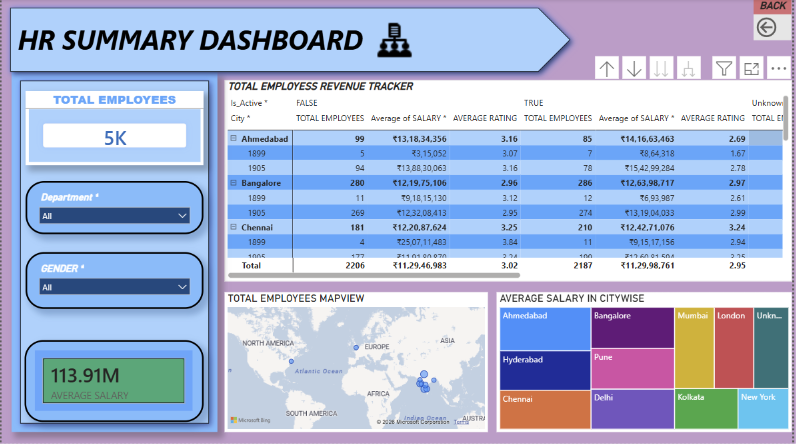

This screenshot's page, from the dashboard's own definition file:
{"tool":"powerbi","page":{"name":"Page 2","canvas":[1280,720],"ordinal":1},"visuals":[{"type":"pivotTable","title":"TOTAL EMPLOYESS REVENUE TRACKER","fields":{"Values":["MEASURE TABLE.TOTAL EMPLOYEES","Avg(WORKSHEET.SALARY *)","MEASURE TABLE.AVERAGE RATING"],"Rows":["WORKSHEET.City *","WORKSHEET.Joining_Date *.1.Variation.Date Hierarchy.Year"],"Columns":["WORKSHEET.Is_Active *"]},"box":[361.1,131.2,918.1,325.5],"z":0},{"type":"shape","box":[16.2,118.2,333.6,582.9],"z":1000},{"type":"shape","box":[0,0,935,131.7],"z":2000},{"type":"textbox","box":[21.4,30,655.7,71.4],"z":3000},{"type":"cardVisual","title":"TOTAL EMPLOYEES","fields":{"Data":["MEASURE TABLE.TOTAL EMPLOYEES"]},"box":[38.9,149,288.2,119.8],"z":4000},{"type":"slicer","fields":{"Values":["WORKSHEET.Department *"]},"box":[38.9,294.7,288.2,85.8],"z":5000},{"type":"slicer","fields":{"Values":["WORKSHEET.GENDER *"]},"box":[38.9,409.7,288.2,92.3],"z":6000},{"type":"cardVisual","fields":{"Data":["MEASURE TABLE.AVERAGE SALARY"]},"box":[37.2,552.2,289.8,132.8],"z":7000},{"type":"map","title":"TOTAL EMPLOYEES MAPVIEW","fields":{"Category":["WORKSHEET.City *"],"Size":["MEASURE TABLE.TOTAL EMPLOYEES"]},"box":[361.1,474.4,425.9,226.7],"z":8000},{"type":"treemap","title":"AVERAGE SALARY IN CITYWISE","fields":{"Group":["WORKSHEET.City *"],"Values":["Avg(WORKSHEET.SALARY *)"]},"box":[801.5,474.4,477.7,226.7],"z":9000},{"type":"actionButton","box":[600.7,30.8,77.7,71.2],"z":10000},{"type":"actionButton","title":"BACK","box":[1217.7,0,61.5,66.4],"z":11000}]}

Visuals, with their boxes in screenshot pixels (x1, y1, x2, y2), scaled from the page's 1280x720 canvas onto the 796x444 screenshot:
"TOTAL EMPLOYESS REVENUE TRACKER" pivotTable: (225,81,795,282)
shape: (10,73,218,432)
shape: (0,0,581,81)
textbox: (13,18,421,63)
"TOTAL EMPLOYEES" cardVisual: (24,92,203,166)
slicer - WORKSHEET.Department *: (24,182,203,235)
slicer - WORKSHEET.GENDER *: (24,253,203,310)
cardVisual - MEASURE TABLE.AVERAGE SALARY: (23,341,203,422)
"TOTAL EMPLOYEES MAPVIEW" map: (225,293,489,432)
"AVERAGE SALARY IN CITYWISE" treemap: (498,293,795,432)
actionButton: (374,19,422,63)
"BACK" actionButton: (757,0,795,41)
